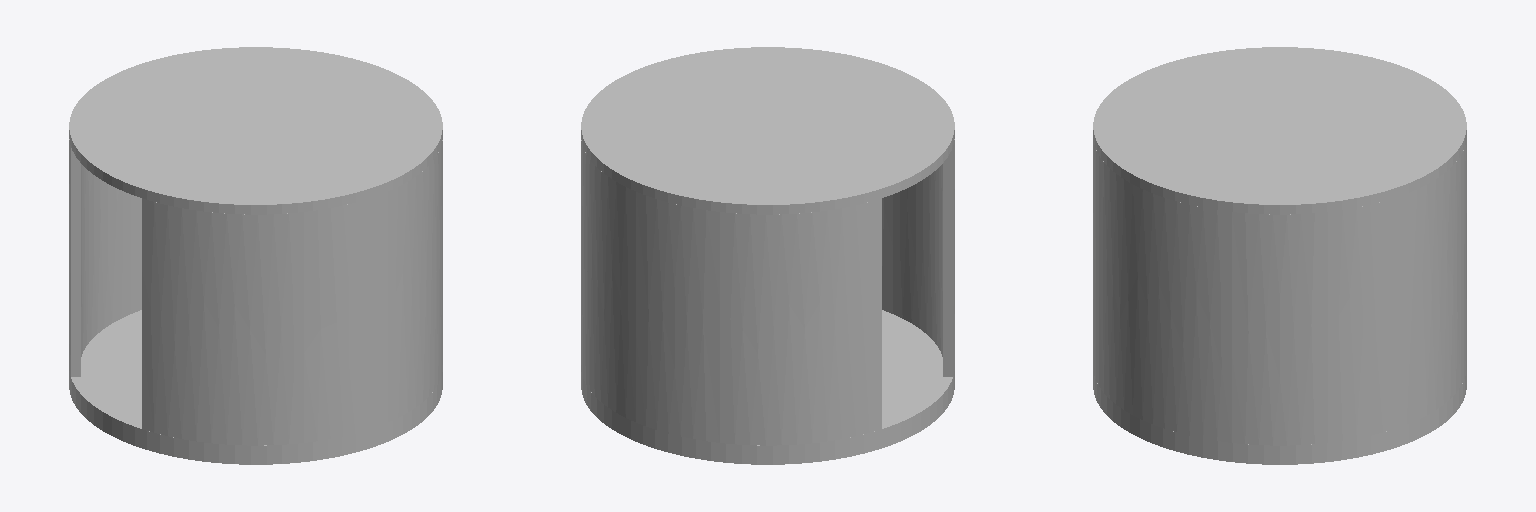
The model's file is lift_cabine_1.obj.
3 views of the same model, side by side, from view 1: azimuth 30°, elevation 25°; view 2: azimuth 150°, elevation 25°; view 3: azimuth 270°, elevation 25° (orthographic).
Visible parts, largest first — view 1: Walls, Floors; view 2: Walls, Floors; view 3: Walls, Floors.
Boxes of the visible parts, x1=… form: Walls: x1=69, y1=139, x2=442, y2=445; Floors: x1=69, y1=47, x2=442, y2=464; Walls: x1=581, y1=139, x2=954, y2=445; Floors: x1=581, y1=47, x2=954, y2=464; Walls: x1=1093, y1=140, x2=1466, y2=445; Floors: x1=1093, y1=47, x2=1466, y2=464.
Bounding box in the file's own units: 3.52 × 2.7 × 3.52.